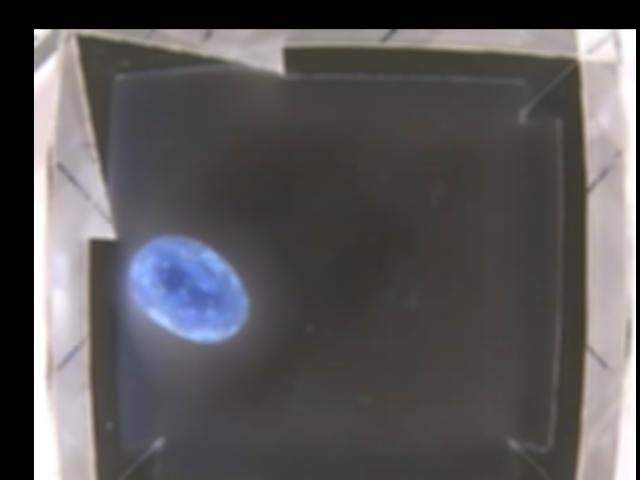Potato: (128, 237, 253, 346)
